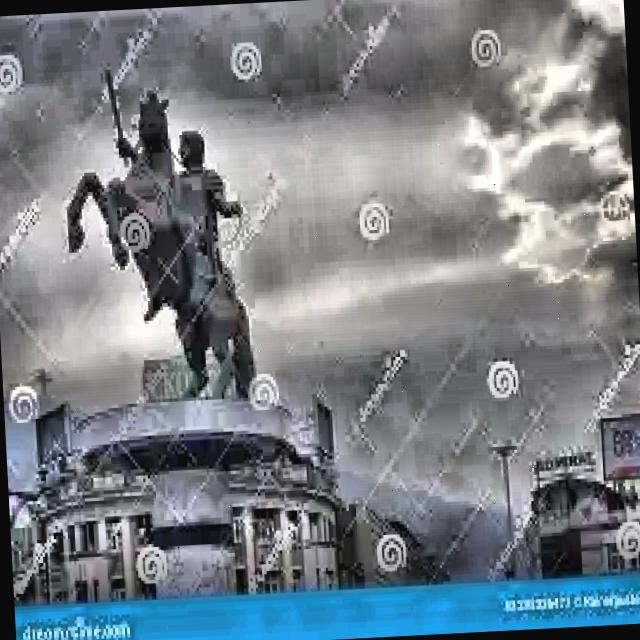alexander the great monument: (52, 36, 312, 626)
